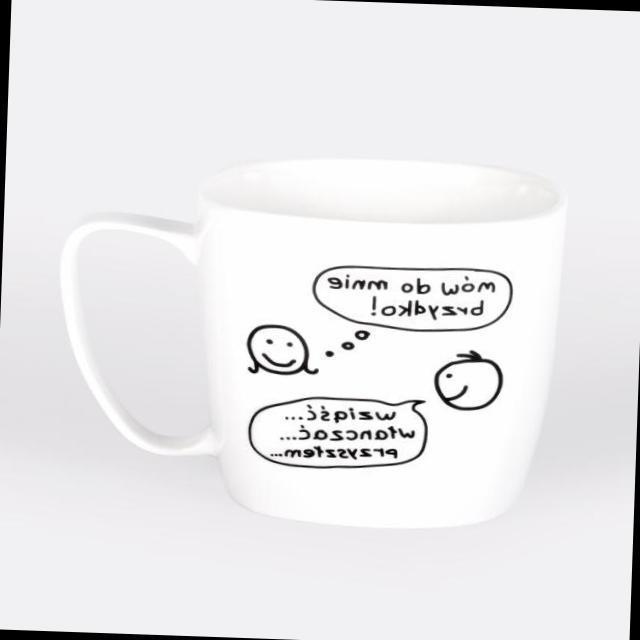taza: (53, 147, 569, 534)
